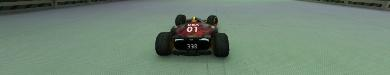Car: (154, 13, 229, 57)
grass: (0, 0, 389, 74)
obstacles-Borders: (0, 0, 126, 16)
